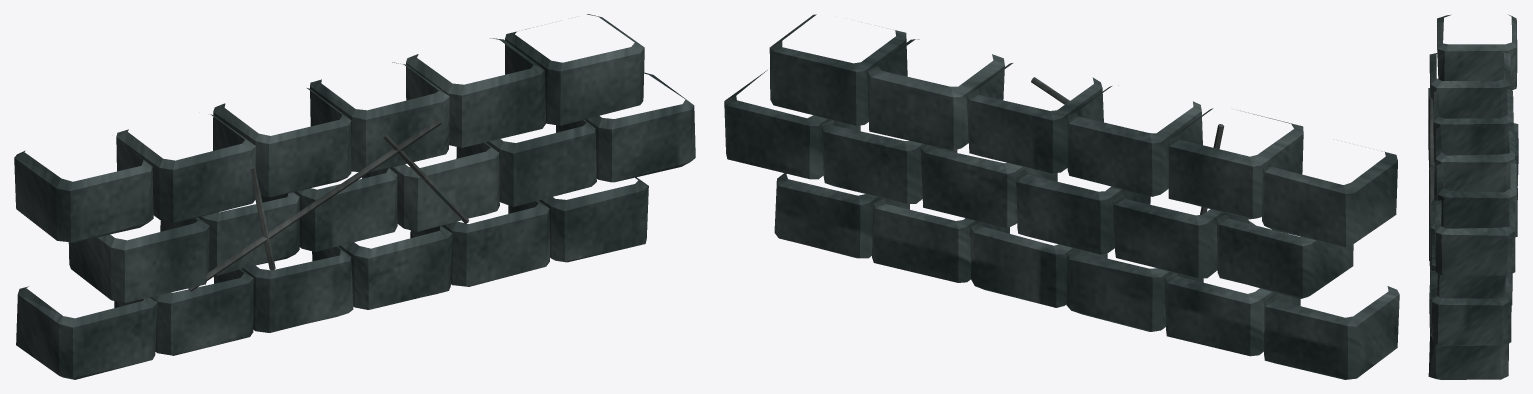
The model's file is 0337_wall_section_12.glb.
3 renders of one model, left to right at view 1: azimuth 30°, elevation 25°; view 2: azimuth 150°, elevation 25°; view 3: azimuth 270°, elevation 25°, orthographic. The views are drawn at different scales.
Visible parts, largest first — view 1: stone_dark, iron; view 2: stone_dark; view 3: stone_dark, iron.
Part boxes in pixels (bbox=[...]): stone_dark: bbox=[14, 14, 695, 379]; iron: bbox=[188, 119, 469, 291]; stone_dark: bbox=[724, 14, 1399, 379]; stone_dark: bbox=[1428, 14, 1518, 379]; iron: bbox=[1429, 98, 1433, 260].
Bounding box in the file's own units: 3.74 × 1.12 × 0.6011.
Materials: 2 (2 with a texture image).
